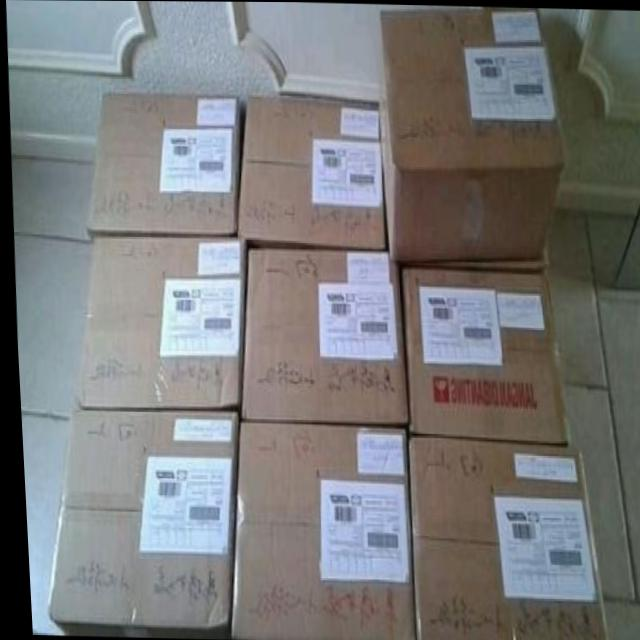box: (375, 7, 564, 259), (40, 407, 233, 639), (402, 434, 602, 640), (223, 420, 408, 640), (71, 235, 243, 413), (398, 268, 566, 447), (237, 247, 401, 423), (234, 92, 383, 250), (82, 93, 239, 237), (397, 241, 547, 276)
